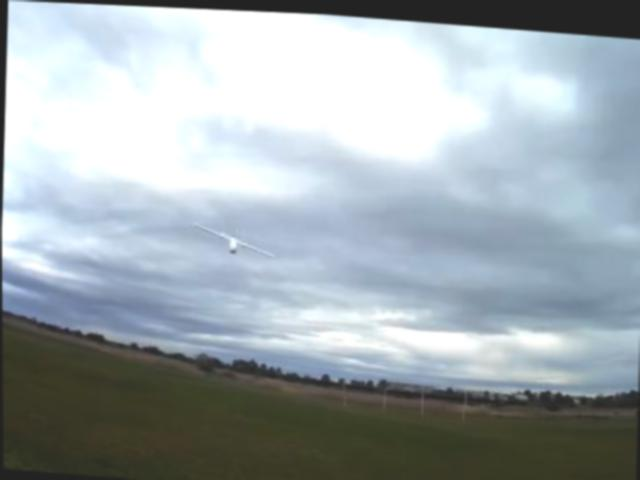uav: (192, 218, 277, 258)
